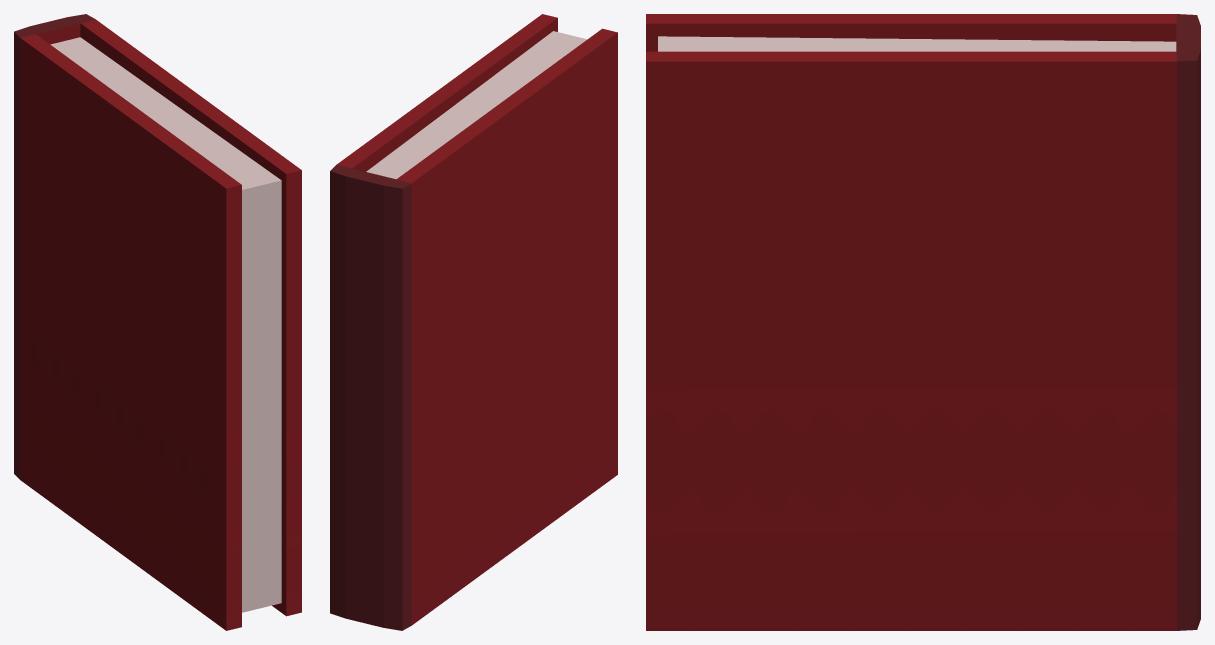
File: book.fbx
3 renders of one model, left to right at view 1: azimuth 30°, elevation 25°; view 2: azimuth 150°, elevation 25°; view 3: azimuth 270°, elevation 25°, orthographic. The views are drawn at different scales.
Parts seen in each view (by area): view 1: book; view 2: book; view 3: book.
Boxes of the visible parts, x1,y1,x2,y2 form: book: (14, 14, 301, 630); book: (330, 14, 617, 630); book: (646, 14, 1200, 630).
Bounding box in the file's own units: 5.12 × 28.6 × 25.26.
